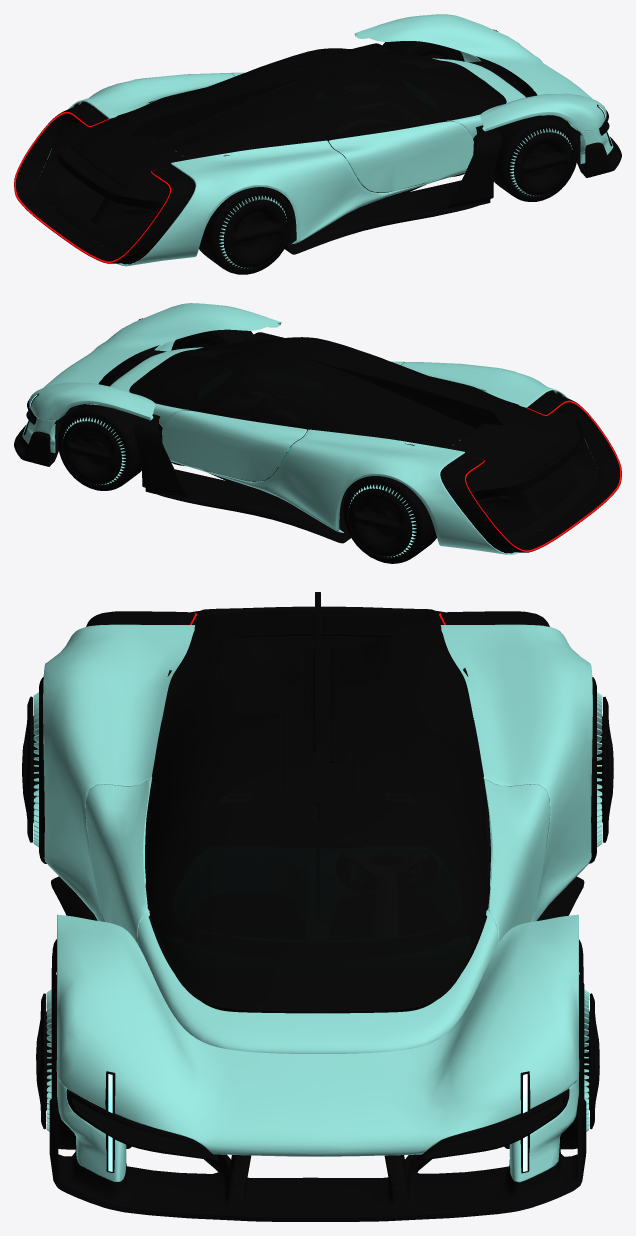
The model's file is vision-gt-lite.glb.
The picture shows the model from 3 angles, top to bottom: view 1: azimuth 30°, elevation 25°; view 2: azimuth 150°, elevation 25°; view 3: azimuth 270°, elevation 25°; orthographic projection. The views are drawn at different scales.
Visible parts, largest first — view 1: Cube.048, Door_R_accent, Door_R_glass, Windscreen, Wheel_RR_glass, Wheel_FR_tire, Wheel_FR_glass, Wheel_RR_tire, Door_L_glass, Wheel_RR_shine, Wheel_FR_shine, Wheel_FL_tire (+1 smaller); view 2: Cube.048, Door_L_accent, Door_L_glass, Windscreen, Wheel_RL_glass, Wheel_FL_tire, Wheel_FL_glass, Wheel_RL_tire, Door_R_glass, Wheel_RL_shine, Wheel_FL_shine, Wheel_FR_tire (+1 smaller); view 3: Cube.048, Windscreen, Door_R_glass, Door_L_glass, Door_R_accent, Door_L_accent, Wheel_RL_glass, Wheel_RR_glass, Wheel_FR_glass, Wheel_FL_glass, Wheel_FR_tire, Wheel_FL_tire (+4 smaller).
Boxes of the visible parts, x1,y1,x2,y2 form: Cube.048: [14, 14, 621, 266]; Door_R_accent: [328, 121, 473, 192]; Door_R_glass: [285, 64, 447, 141]; Windscreen: [345, 48, 506, 120]; Wheel_RR_glass: [223, 199, 287, 267]; Wheel_FR_tire: [494, 115, 577, 201]; Wheel_FR_glass: [513, 132, 572, 195]; Wheel_RR_tire: [199, 187, 292, 274]; Door_L_glass: [248, 48, 375, 82]; Wheel_RR_shine: [219, 195, 286, 268]; Wheel_FR_shine: [509, 128, 572, 196]; Wheel_FL_tire: [382, 41, 464, 61]; Cube.048: [14, 303, 621, 554]; Door_L_accent: [162, 410, 307, 481]; Door_L_glass: [188, 353, 350, 430]; Windscreen: [129, 337, 289, 409]; Wheel_RL_glass: [348, 488, 412, 556]; Wheel_FL_tire: [58, 404, 141, 490]; Wheel_FL_glass: [63, 421, 121, 484]; Wheel_RL_tire: [343, 476, 436, 563]; Door_R_glass: [259, 337, 387, 371]; Wheel_RL_shine: [348, 484, 416, 557]; Wheel_FL_shine: [63, 417, 126, 485]; Wheel_FR_tire: [171, 329, 253, 350]; Cube.048: [43, 592, 592, 1221]; Windscreen: [149, 816, 486, 1013]; Door_R_glass: [145, 719, 317, 910]; Door_L_glass: [318, 719, 490, 910]; Door_R_accent: [85, 779, 151, 943]; Door_L_accent: [484, 779, 550, 943]; Wheel_RL_glass: [597, 696, 613, 842]; Wheel_RR_glass: [22, 696, 38, 842]; Wheel_FR_glass: [36, 993, 51, 1129]; Wheel_FL_glass: [584, 993, 599, 1129]; Wheel_FR_tire: [51, 974, 131, 1149]; Wheel_FL_tire: [504, 974, 584, 1149].
Bounding box in the file's own units: 5.44 × 1.19 × 2.65.
